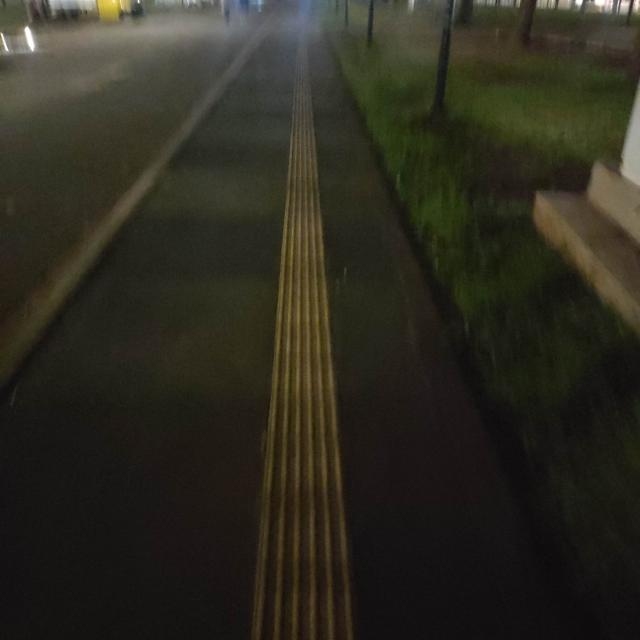lurus: (250, 148, 358, 627)
